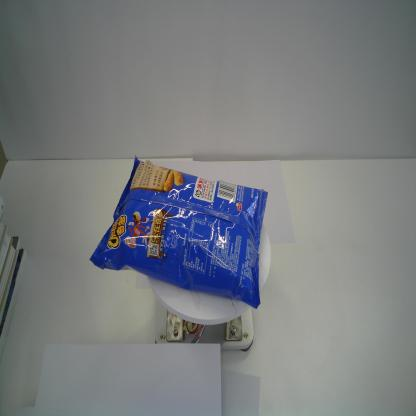Puffed Food: (89, 153, 268, 310)
